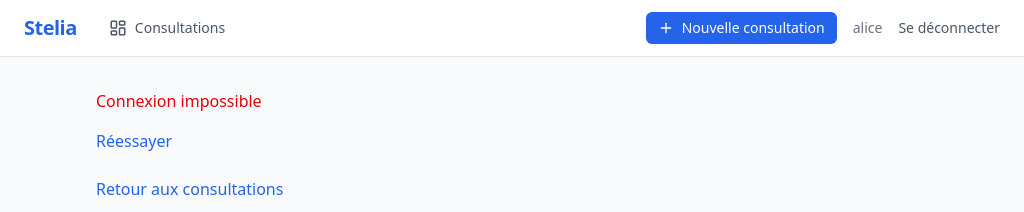
workspace data safety › distinguishes not-found dossiers from network failures and offers retry
Check: the message reads "Connexion impossible", box x1=96 y1=90 x2=262 y2=112
Check: the text "Consultation introuvable" is not shown
Click the button "Réessayer" at (134, 141), box x1=96 y1=129 x2=172 y2=153
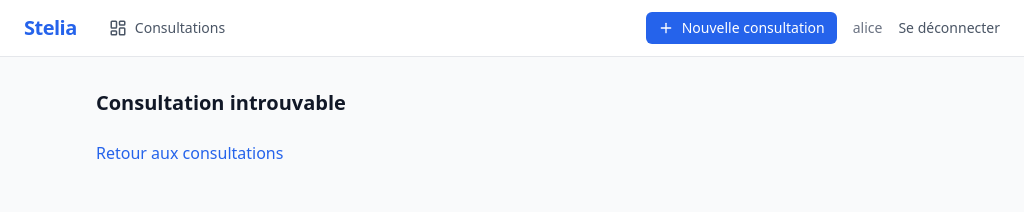
Check: the heading "Consultation introuvable" is shown, box x1=96 y1=89 x2=346 y2=116
